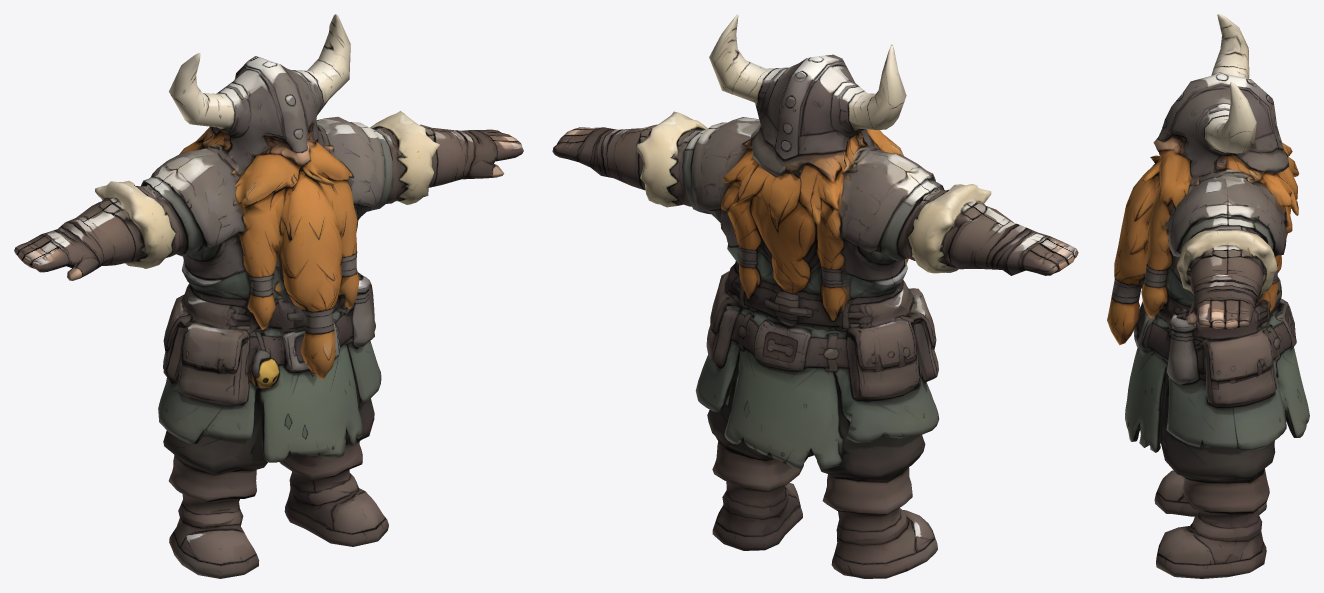
The picture shows the model from 3 angles, left to right: view 1: azimuth 30°, elevation 25°; view 2: azimuth 150°, elevation 25°; view 3: azimuth 270°, elevation 25°; orthographic projection. The views are drawn at different scales.
Visible parts, largest first — view 1: tripo_node_a77144ea; view 2: tripo_node_a77144ea; view 3: tripo_node_a77144ea.
Boxes of the visible parts, x1,y1,x2,y2 form: tripo_node_a77144ea: (14,14,523,578); tripo_node_a77144ea: (552,14,1078,578); tripo_node_a77144ea: (1107,14,1309,578).
Size of the model in its own units: 97.64 by 94.69 by 35.81.
1 material, 1 textured.
